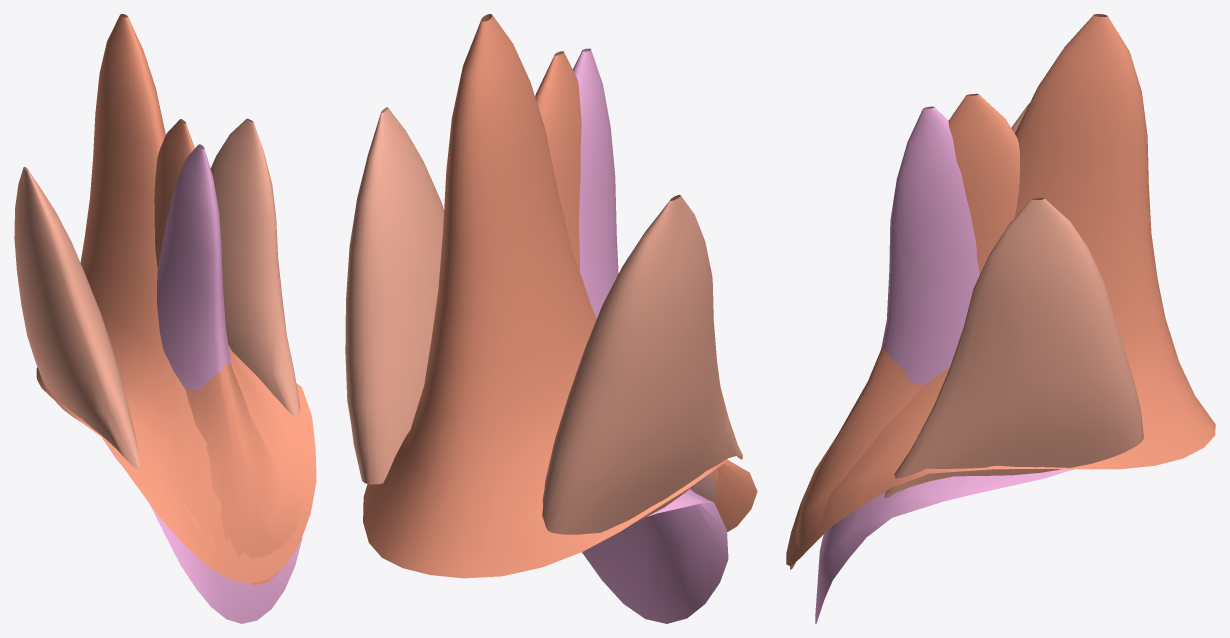
The model's file is SM_MuflusHeadVFX_Low.fbx.
3 views of the same model, side by side, from view 1: azimuth 30°, elevation 25°; view 2: azimuth 150°, elevation 25°; view 3: azimuth 270°, elevation 25° (orthographic). The views are drawn at different scales.
Visible parts, largest first — view 1: HeadMainFlame, HeadSidesSupport, HeadBackSupport; view 2: HeadMainFlame, HeadSidesSupport, HeadBackSupport; view 3: HeadMainFlame, HeadSidesSupport, HeadBackSupport.
Boxes of the visible parts, <box> form: HeadMainFlame: <box>36,14,316,585</box>; HeadSidesSupport: <box>14,118,300,469</box>; HeadBackSupport: <box>104,144,302,623</box>; HeadMainFlame: <box>363,14,757,578</box>; HeadSidesSupport: <box>345,107,742,534</box>; HeadBackSupport: <box>572,48,728,623</box>; HeadMainFlame: <box>786,14,1215,569</box>; HeadSidesSupport: <box>884,103,1143,497</box>; HeadBackSupport: <box>815,106,1073,623</box>.
Bounding box in the file's own units: 0.7843 × 1.68 × 1.09.
